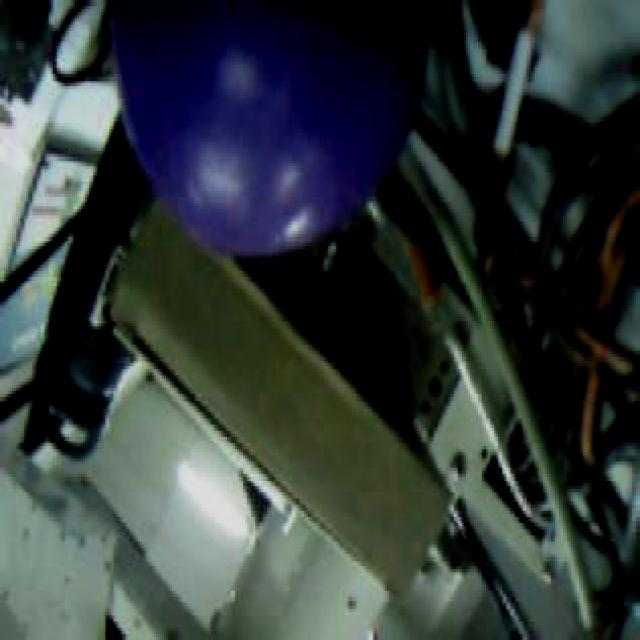BallPurple: (108, 0, 410, 258)
